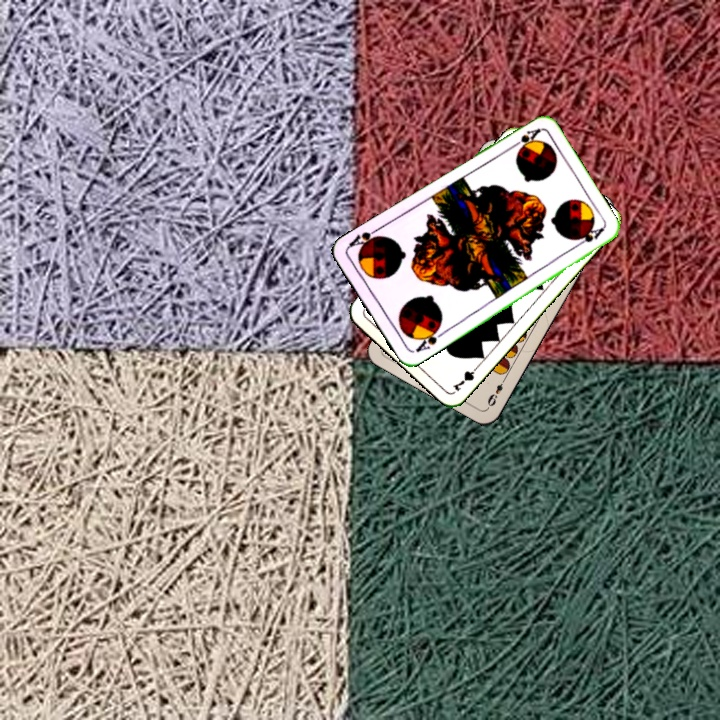E9: (483, 373, 509, 409)
G7: (448, 360, 482, 394)
SA: (412, 323, 447, 355), (506, 125, 543, 153)
